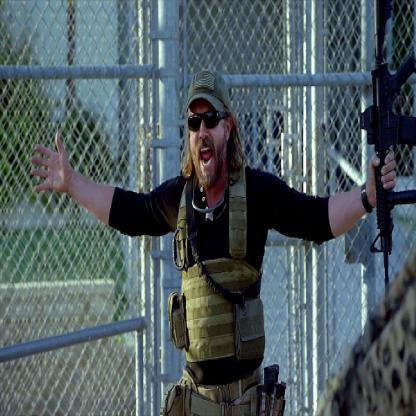Gun: (358, 0, 415, 297)
